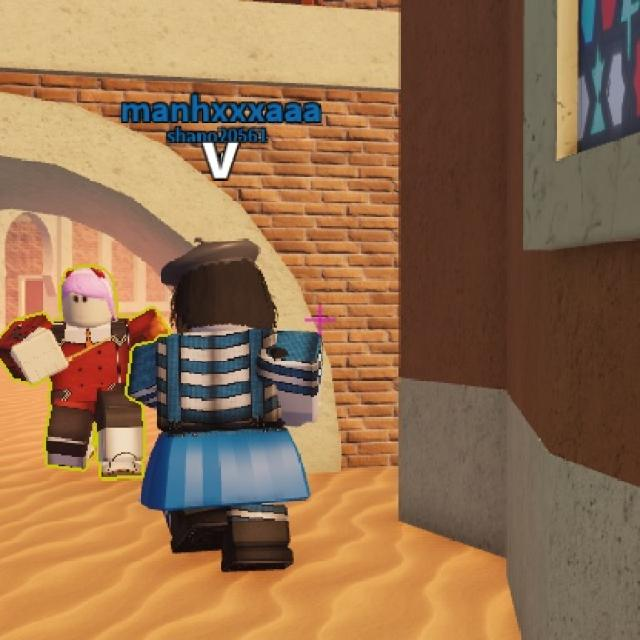player: (9, 266, 138, 472)
